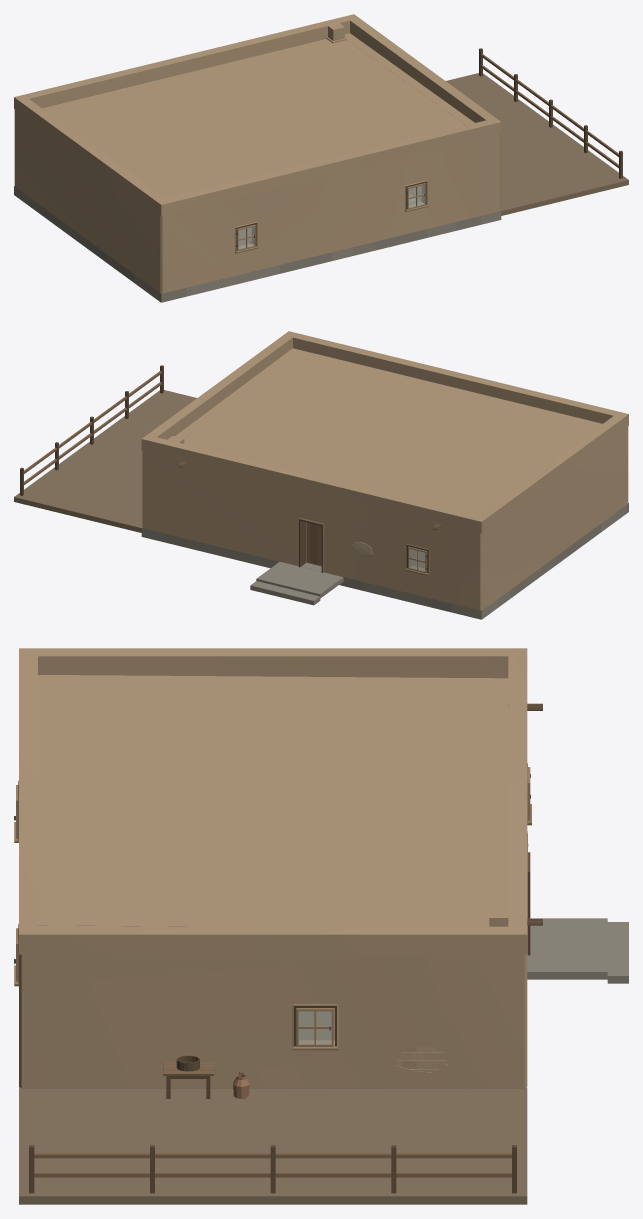
The model's file is bld_01.glb.
3 views of the same model, one above another, from view 1: azimuth 30°, elevation 25°; view 2: azimuth 150°, elevation 25°; view 3: azimuth 270°, elevation 25° (orthographic). The views are drawn at different scales.
Visible parts, largest first — view 1: shell__detail_vertex_adobe_finish, shell__detail_vertex_adobe, shell__detail_vertex_soil, shell__detail_vertex_stone, shell__detail_vertex_wood; view 2: shell__detail_vertex_adobe_finish, shell__detail_vertex_adobe, shell__detail_vertex_soil, shell__detail_vertex_stone, shell__detail_vertex_wood, portal_00__detail_vertex_wood; view 3: shell__detail_vertex_adobe, shell__detail_vertex_adobe_finish, shell__detail_vertex_soil, shell__detail_vertex_wood, shell__detail_vertex_stone, portal_04__gbb_glass, wash_table__detail_vertex_wood.
Part boxes in pixels (bbox=[...]): shell__detail_vertex_adobe_finish: bbox=[14, 14, 501, 293]; shell__detail_vertex_adobe: bbox=[42, 33, 474, 198]; shell__detail_vertex_soil: bbox=[236, 73, 628, 246]; shell__detail_vertex_stone: bbox=[14, 186, 501, 302]; shell__detail_vertex_wood: bbox=[235, 48, 622, 253]; shell__detail_vertex_adobe_finish: bbox=[141, 331, 628, 610]; shell__detail_vertex_adobe: bbox=[175, 348, 602, 556]; shell__detail_vertex_soil: bbox=[14, 390, 425, 568]; shell__detail_vertex_stone: bbox=[141, 503, 628, 619]; shell__detail_vertex_wood: bbox=[20, 365, 440, 575]; portal_00__detail_vertex_wood: bbox=[307, 522, 321, 565]; shell__detail_vertex_adobe: bbox=[38, 675, 528, 1071]; shell__detail_vertex_adobe_finish: bbox=[18, 648, 527, 1088]; shell__detail_vertex_soil: bbox=[19, 1008, 527, 1204]; shell__detail_vertex_wood: bbox=[14, 703, 542, 1193]; shell__detail_vertex_stone: bbox=[19, 918, 628, 1088]; portal_04__gbb_glass: bbox=[298, 1011, 331, 1044]; wash_table__detail_vertex_wood: bbox=[163, 1062, 213, 1098].
Bounding box in the file's own units: 22 × 4.4 × 14.52.
